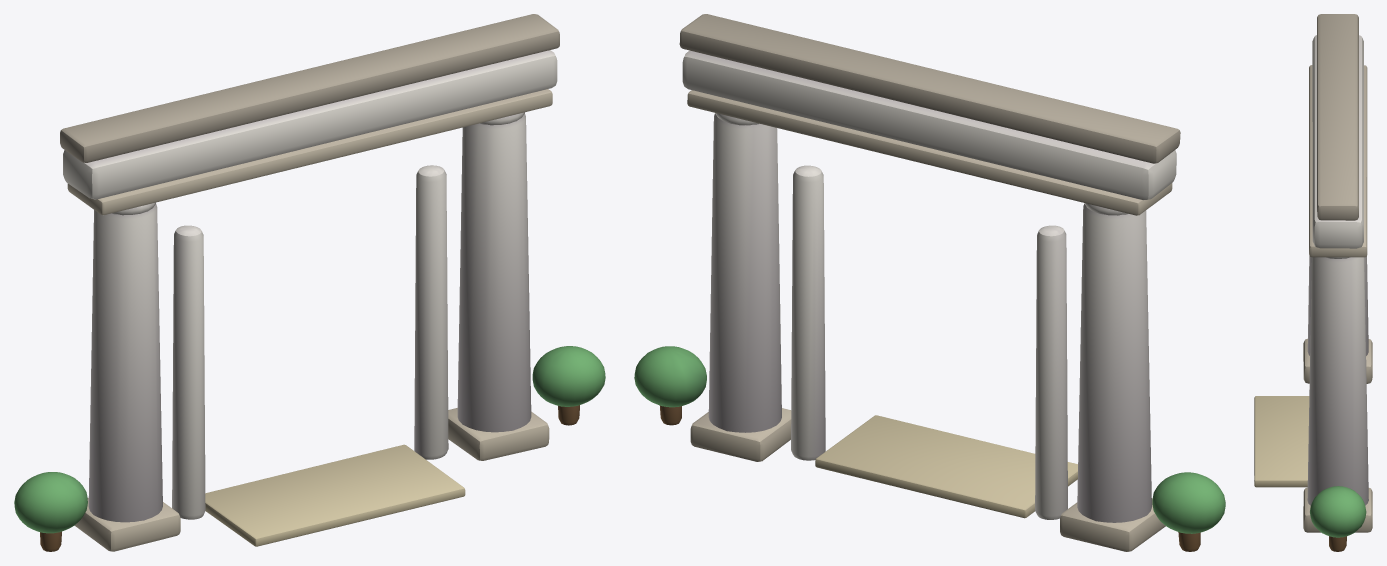
3 renders of one model, left to right at view 1: azimuth 30°, elevation 25°; view 2: azimuth 150°, elevation 25°; view 3: azimuth 270°, elevation 25°, orthographic. The views are drawn at different scales.
Visible parts, largest first — view 1: gate_7839dacc; view 2: gate_7839dacc; view 3: gate_7839dacc.
Boxes of the visible parts, bbox=[...] form: gate_7839dacc: bbox=[14, 14, 605, 551]; gate_7839dacc: bbox=[634, 14, 1225, 551]; gate_7839dacc: bbox=[1254, 14, 1372, 551].
Size of the model in its own units: 6.64 by 4.44 by 1.41.
